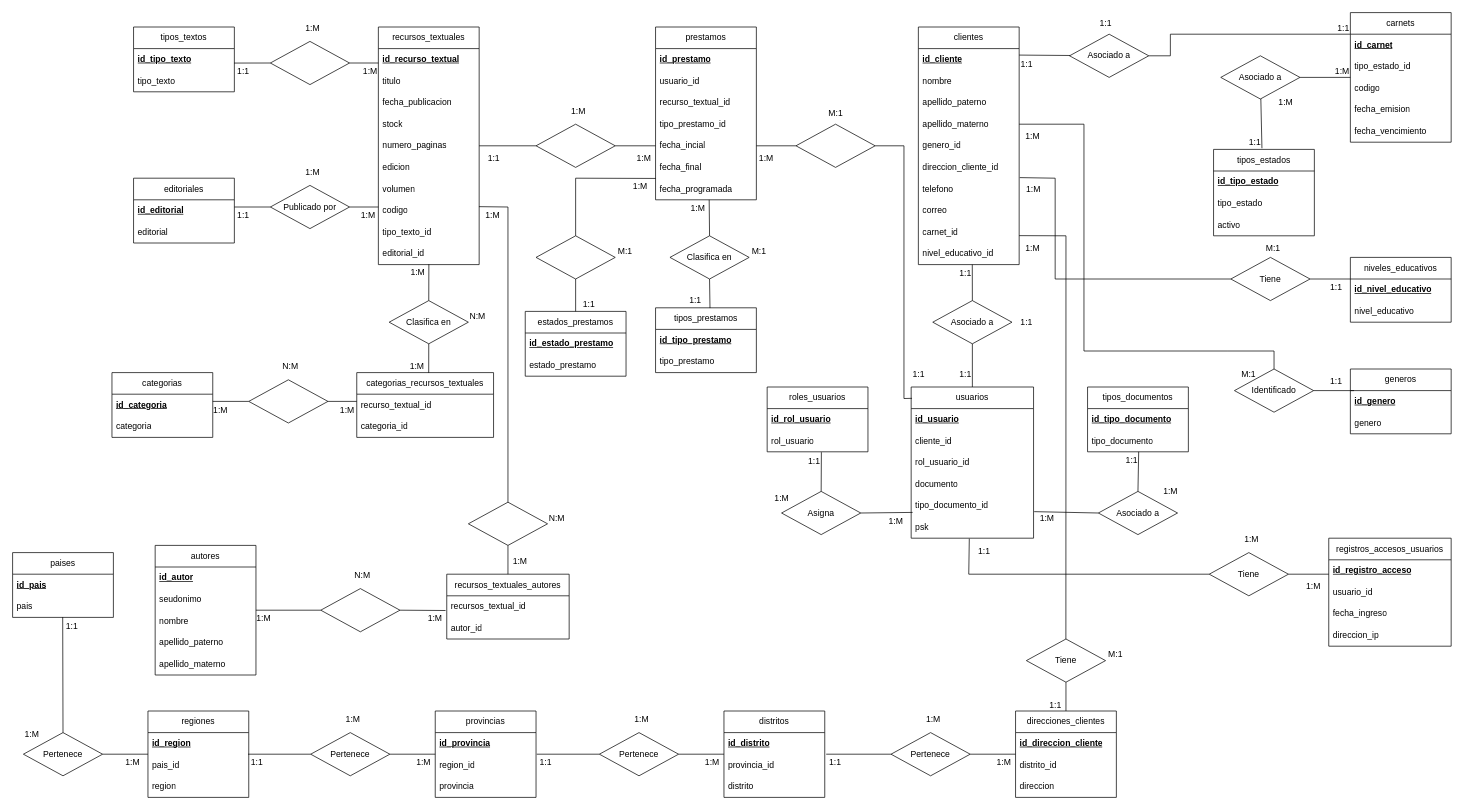
The diagram is 1464 pixels wide and 810 high, and some of its shapes have lost their labels. Here are the shapes that lost their labels. From the top down, the centre of each, then its label:
the point at 310,63: Clasifica como
the point at 575,145: Incluye
the point at 835,145: Realiza
the point at 575,257: Indica
the point at 288,401: Categoriza en
the point at 508,523: Corresponde
the point at 360,610: Escrito por
